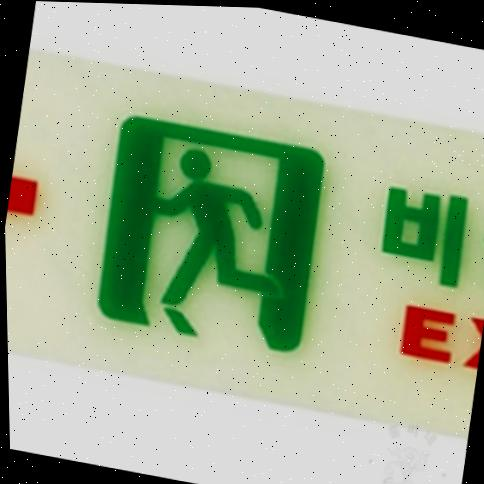emergency_exit: (3, 2, 483, 482), (96, 114, 326, 353)
